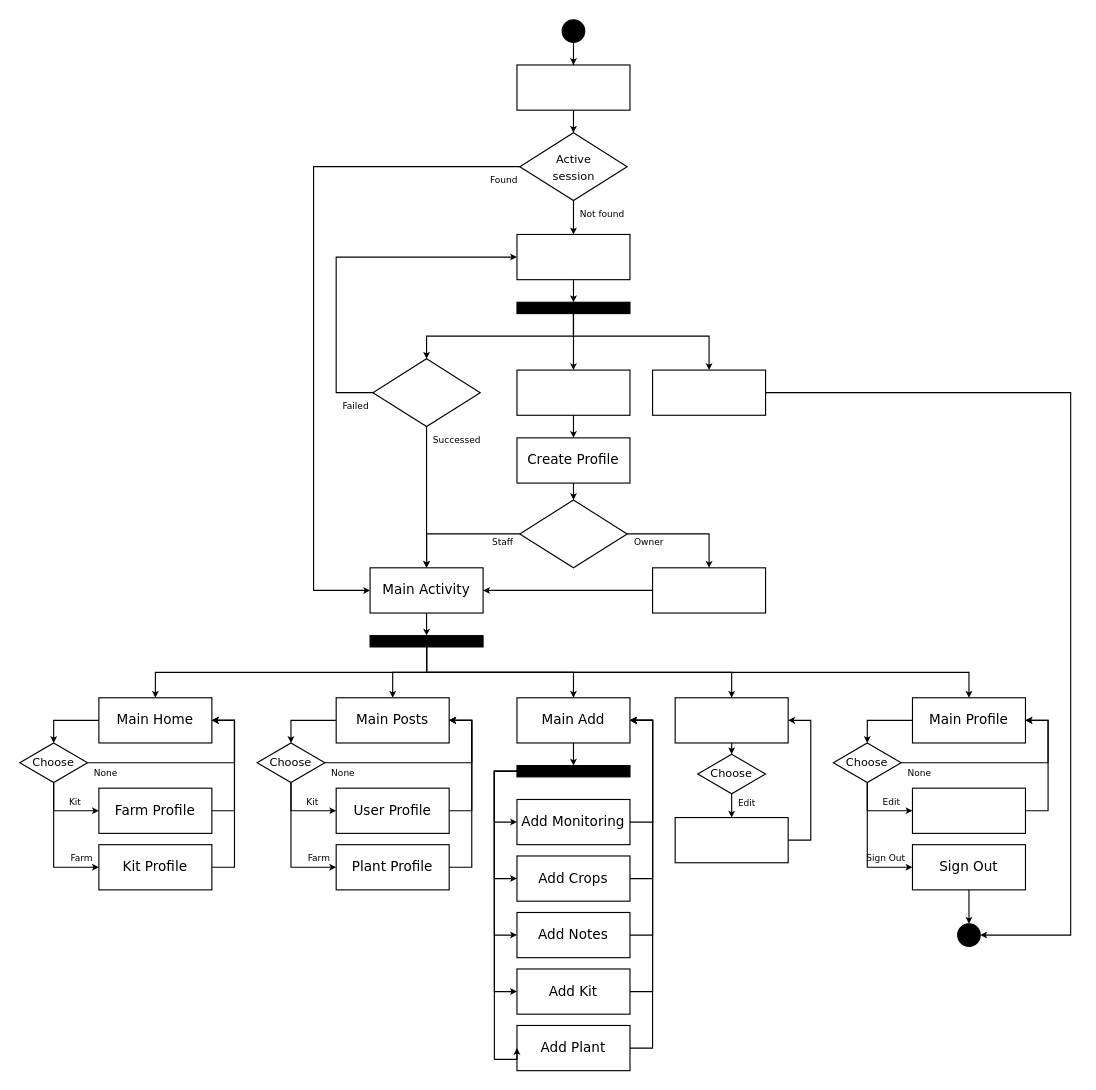
Some shapes in this 1096 by 1090 pixel diagram are drawn without their labels. Each missing label, with the centre of its shape:
"Authentication" goes at point (426, 392).
"Create Farm" goes at point (708, 590).
"Edit Notes" goes at point (731, 839).
"Edit Profile" goes at point (968, 810).
"Forget Password" goes at point (708, 392).
"Main Notes" goes at point (731, 720).
"Role type" goes at point (573, 533).
"Sign In" goes at point (573, 256).
"Sign Up" goes at point (573, 392).
"Splash Screen" goes at point (573, 87).
